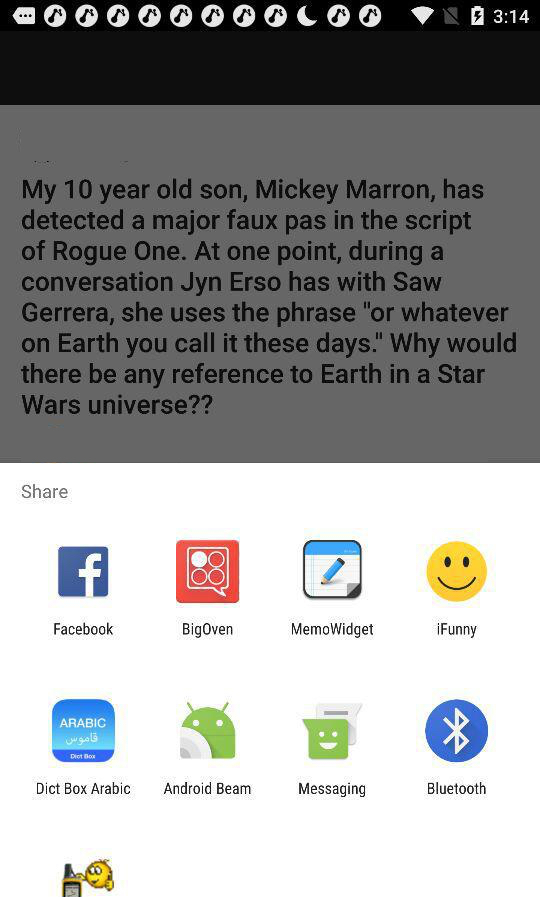Icon: (425, 699, 489, 763), (303, 540, 363, 599), (58, 546, 110, 598)
Image: (52, 698, 116, 763), (176, 540, 240, 604), (426, 541, 488, 603), (301, 702, 365, 760), (180, 701, 236, 760), (54, 861, 115, 897)
Modal: (1, 464, 540, 897)
Text: (20, 178, 517, 416), (292, 621, 374, 639), (37, 781, 131, 795), (164, 781, 252, 795), (299, 781, 366, 798), (183, 622, 234, 639), (54, 622, 115, 636), (428, 781, 487, 795), (22, 484, 69, 500), (437, 622, 478, 639)
UpperTaskBar: (1, 1, 540, 33)
